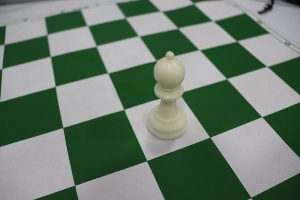white_bishop: (140, 38, 192, 149)
